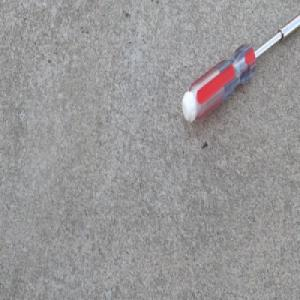Screwdriver: (180, 12, 300, 123)
